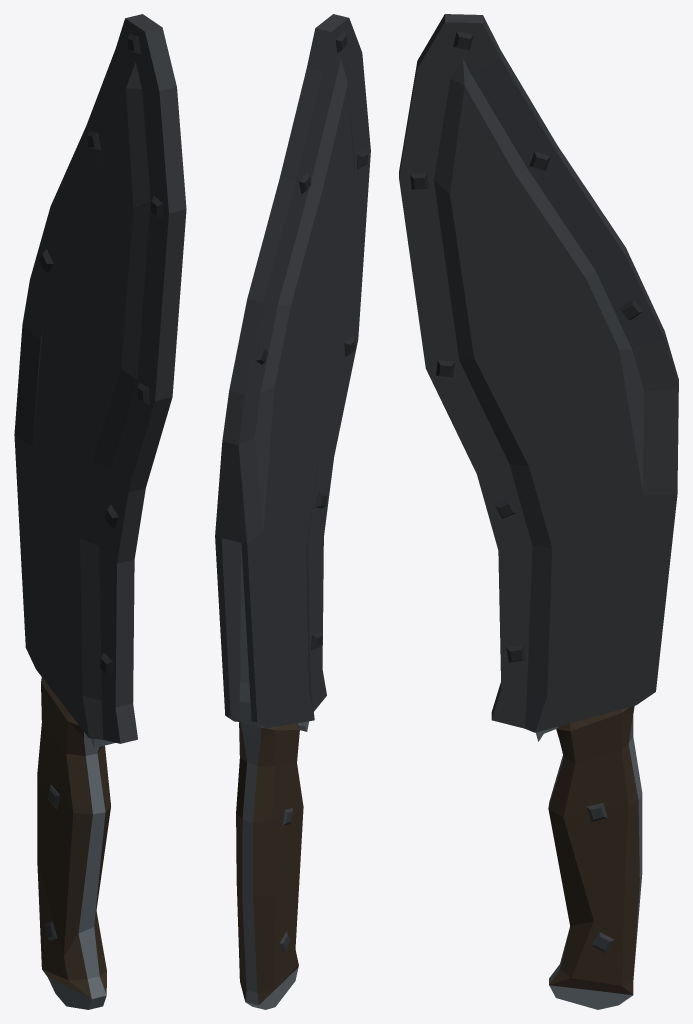
File: SM_Wep_Knife_Kukri_01.fbx
The picture shows the model from 3 angles, left to right: view 1: azimuth 30°, elevation 25°; view 2: azimuth 150°, elevation 25°; view 3: azimuth 270°, elevation 25°; orthographic projection. The views are drawn at different scales.
Visible parts, largest first — view 1: SM_Wep_Knife_Kukri_01_Sheath, SM_Wep_Knife_Kukri_01; view 2: SM_Wep_Knife_Kukri_01_Sheath, SM_Wep_Knife_Kukri_01; view 3: SM_Wep_Knife_Kukri_01_Sheath, SM_Wep_Knife_Kukri_01.
Part boxes in pixels (bbox=[...]): SM_Wep_Knife_Kukri_01_Sheath: bbox=[14, 14, 186, 743]; SM_Wep_Knife_Kukri_01: bbox=[37, 677, 115, 1009]; SM_Wep_Knife_Kukri_01_Sheath: bbox=[215, 14, 370, 728]; SM_Wep_Knife_Kukri_01: bbox=[236, 543, 308, 1009]; SM_Wep_Knife_Kukri_01_Sheath: bbox=[399, 14, 678, 732]; SM_Wep_Knife_Kukri_01: bbox=[536, 706, 642, 1009].
Bounding box in the file's own units: 3.01 × 66.65 × 17.1.
